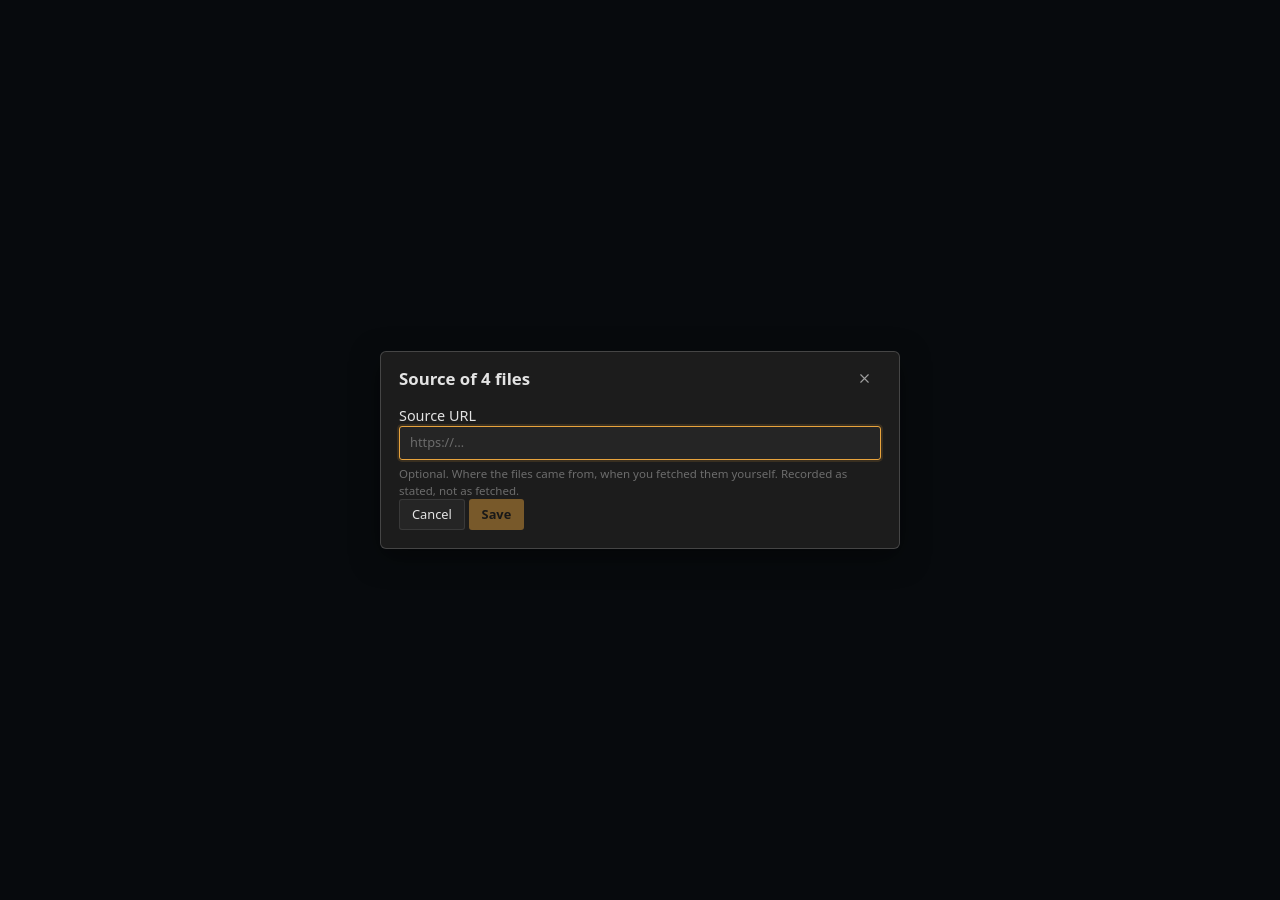
afterwards › is titled for the batch it corrects and needs an answer
Check: the button "Save" is disabled, box [469,499,524,530]
Type "https://example.org/post/7" into the field with id "import-source" at (640, 443), box [399,426,881,460]
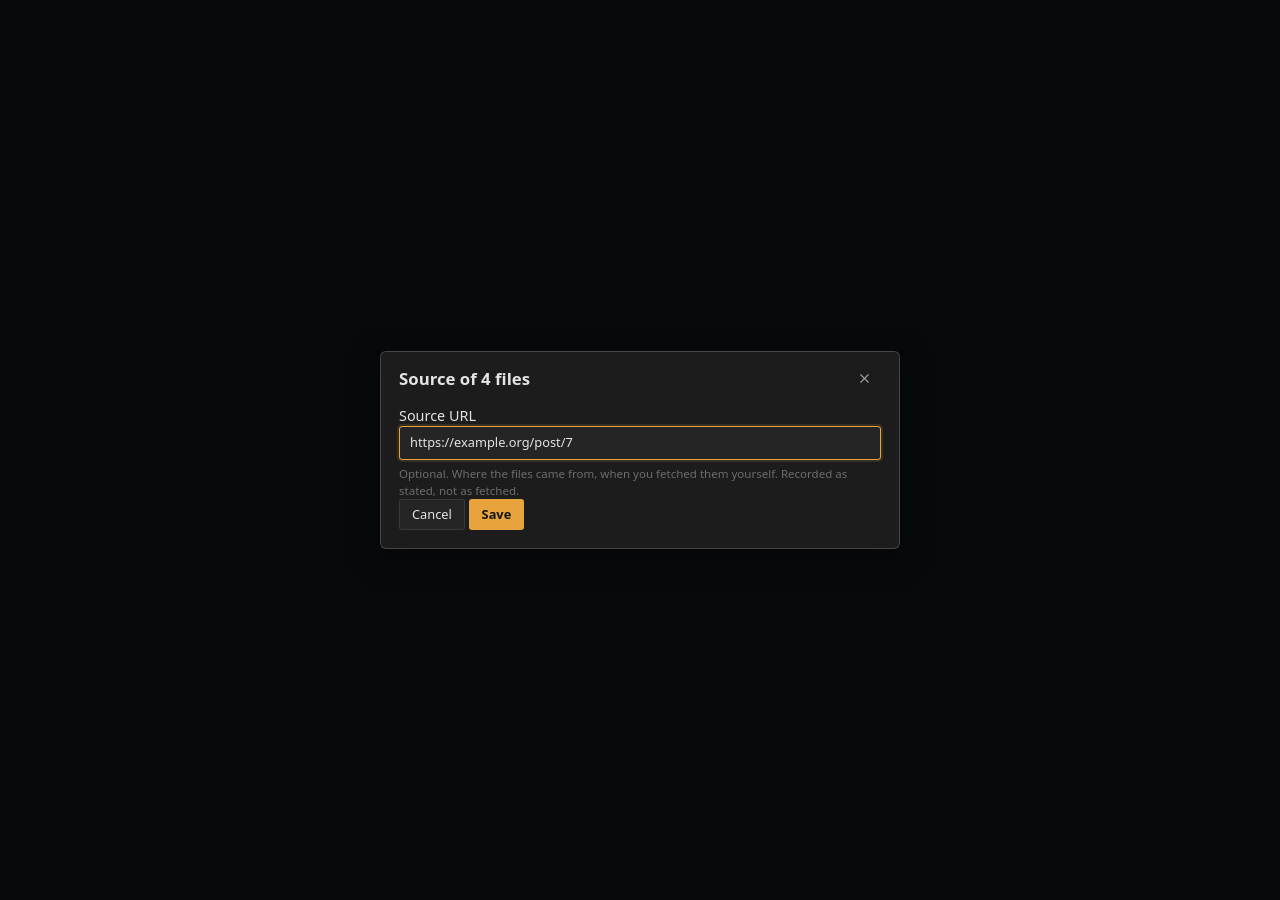
Check: the button "Save" is enabled, box [469,499,524,530]
